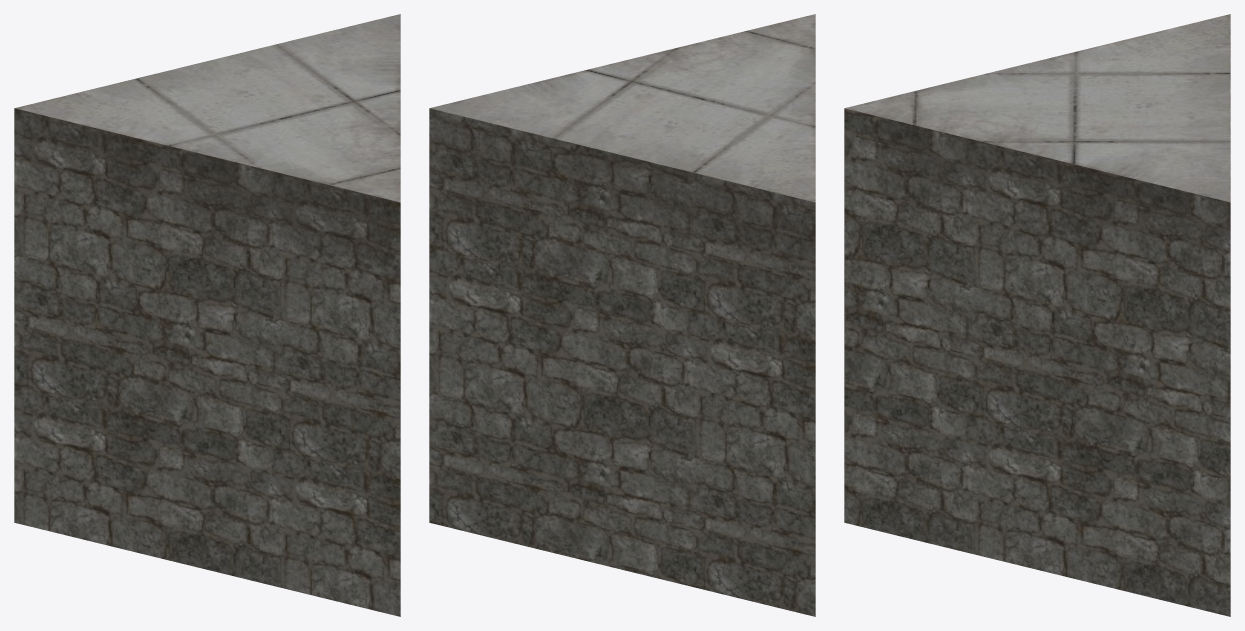
The model's file is stone_foundation_triangle_high_textured.glb.
3 views of the same model, side by side, from view 1: azimuth 30°, elevation 25°; view 2: azimuth 150°, elevation 25°; view 3: azimuth 270°, elevation 25° (orthographic).
Parts seen in each view (by area): view 1: Circle; view 2: Circle; view 3: Circle.
Part boxes in pixels (bbox=[...]): Circle: bbox=[14, 14, 400, 616]; Circle: bbox=[429, 14, 815, 616]; Circle: bbox=[844, 14, 1230, 616].
Bounding box in the file's own units: 2 × 2.05 × 1.73.
1 material, 1 textured.
